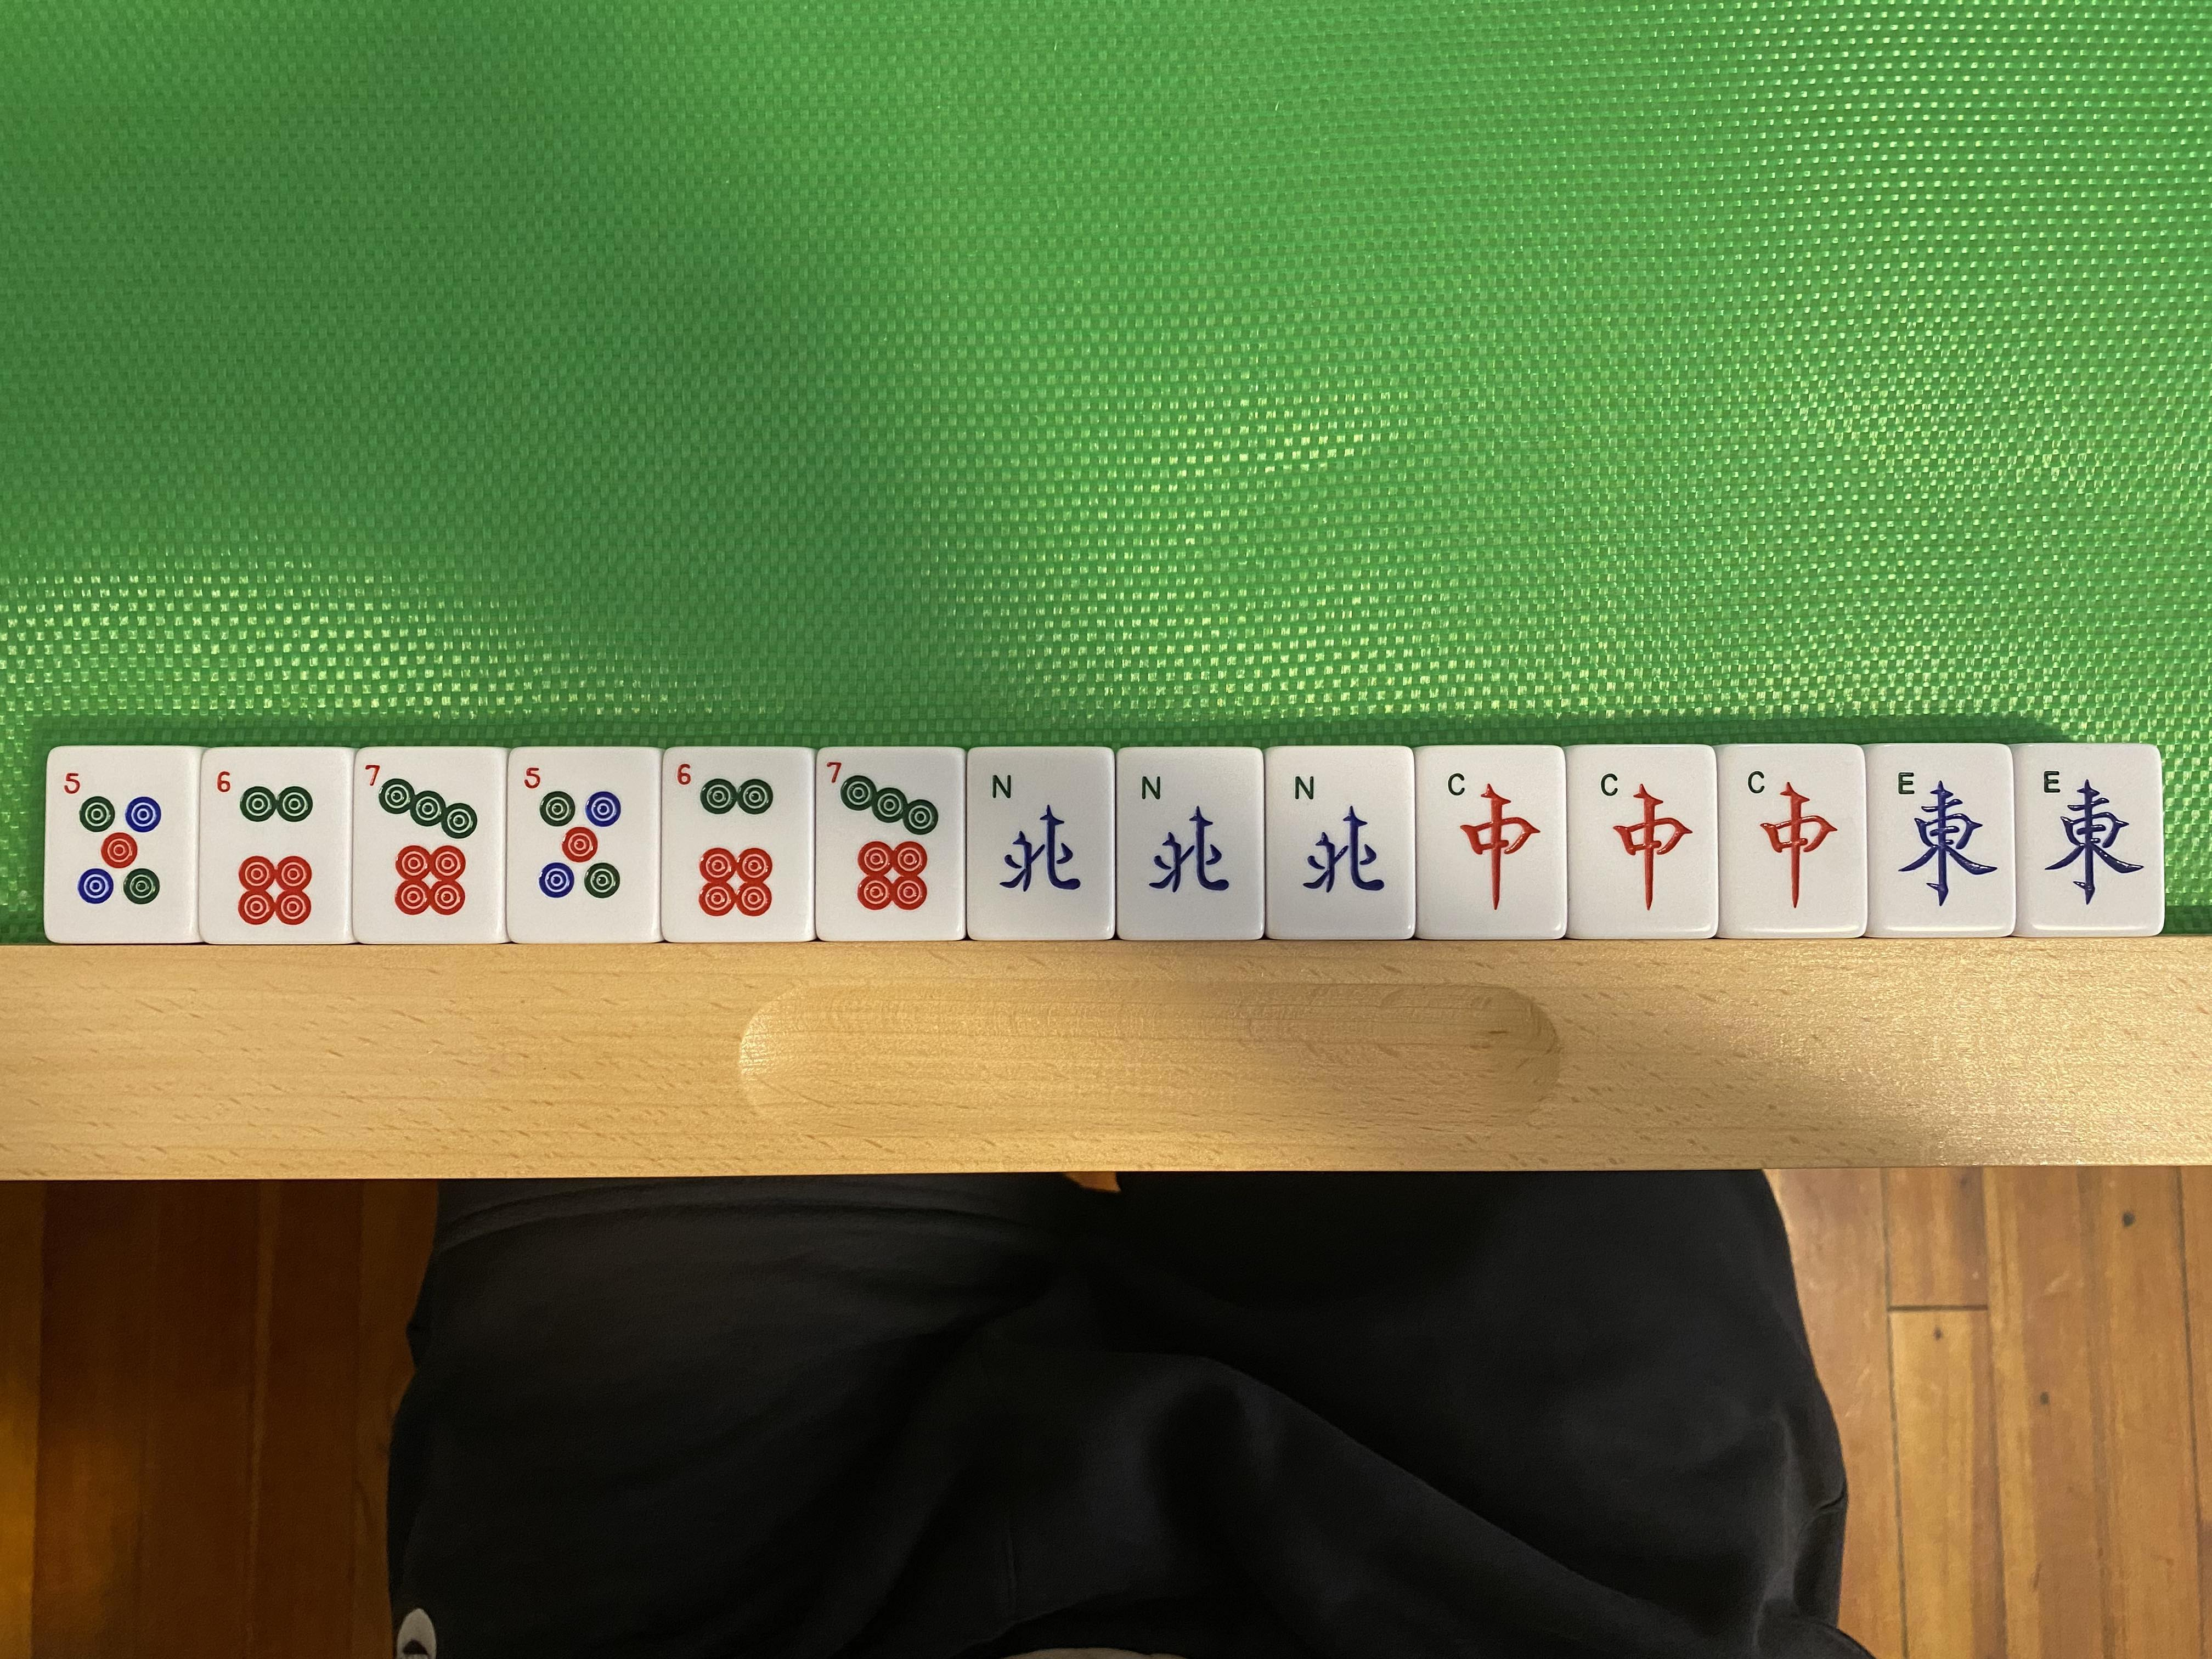circle-five: (514, 756, 637, 924), (54, 755, 176, 924)
circle-seven: (822, 753, 954, 936), (355, 755, 486, 932)
circle-six: (206, 756, 333, 932), (664, 753, 787, 925)
honor-east_wind: (1885, 756, 2001, 924), (2029, 760, 2151, 917)
honor-north_wind: (1280, 760, 1399, 924), (1127, 765, 1251, 922), (974, 760, 1094, 917)
honor-red_dragon: (1730, 756, 1855, 922), (1580, 762, 1702, 924), (1432, 758, 1545, 922)
